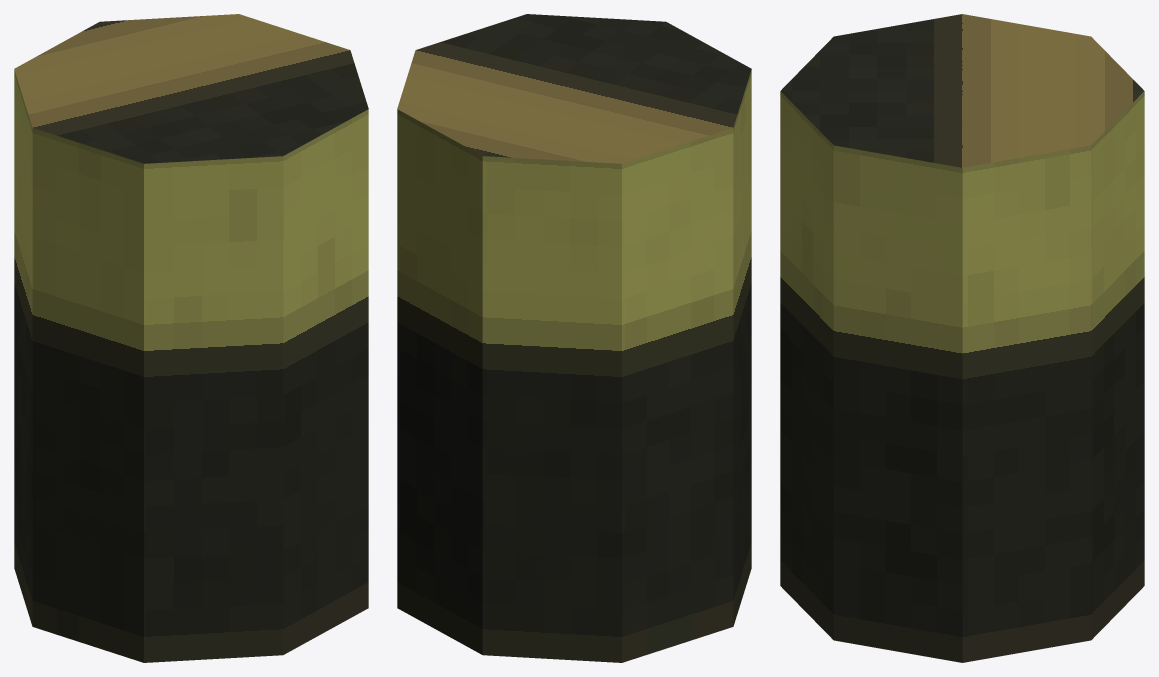
The model's file is Prop_Battery.fbx.
The picture shows the model from 3 angles, left to right: view 1: azimuth 30°, elevation 25°; view 2: azimuth 150°, elevation 25°; view 3: azimuth 270°, elevation 25°; orthographic projection.
Parts seen in each view (by area): view 1: Prop_Battery; view 2: Prop_Battery; view 3: Prop_Battery.
Boxes of the visible parts, bbox=[...] form: Prop_Battery: bbox=[14, 14, 368, 662]; Prop_Battery: bbox=[397, 14, 751, 662]; Prop_Battery: bbox=[780, 14, 1144, 662].
Bounding box in the file's own units: 0.04 × 0.06 × 0.04.
Materials: 1 (1 with a texture image).
